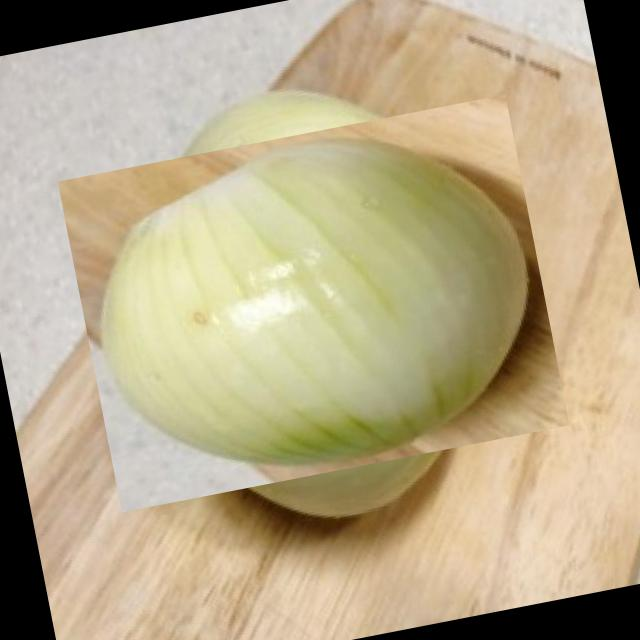Onion: (80, 70, 546, 536)
